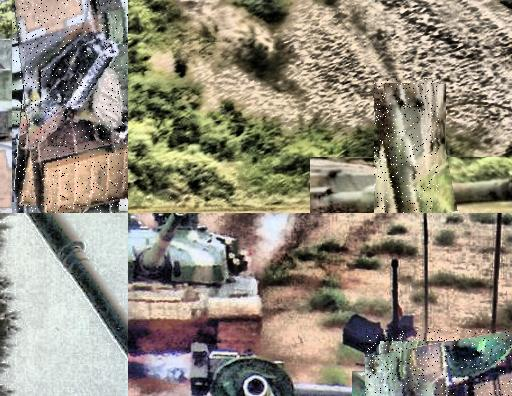tanks: (14, 1, 129, 214), (129, 214, 263, 354), (27, 214, 129, 355), (366, 331, 512, 396), (375, 80, 439, 214)
